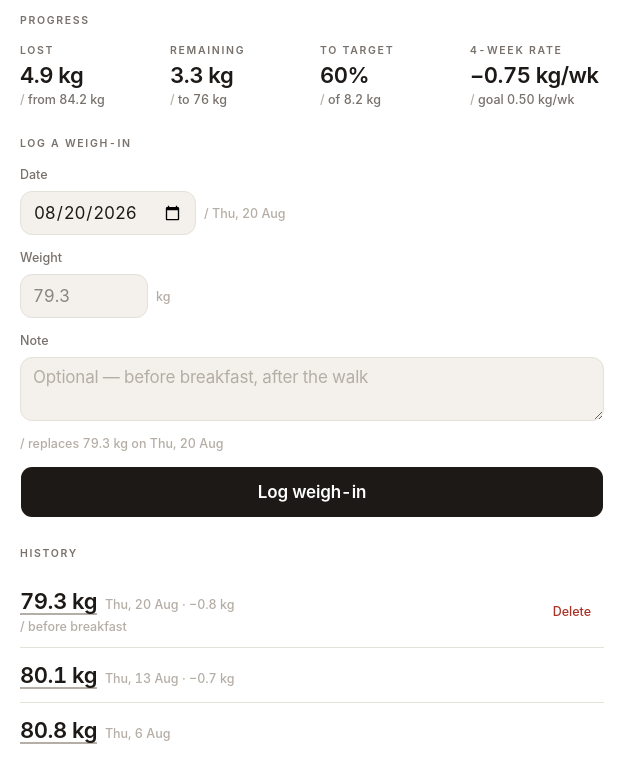
Scenario: editing a past entry › loads a row into the one form, which is addressed by its date
(page scrolled)
Click the button "80.1 kg Thu, 13 Aug · −0.7 kg" at (58, 675), box [20,648,604,702]
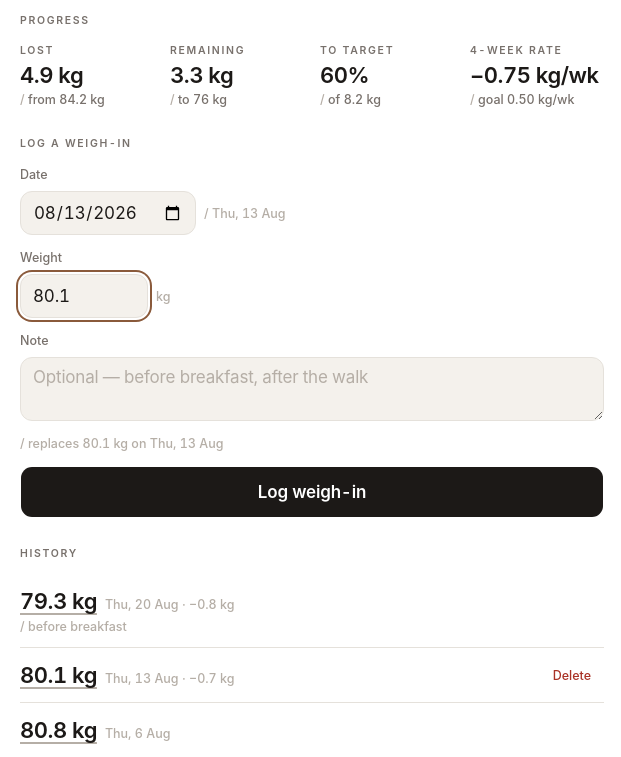
Check: the date field labelled "Date" holds "2026-08-13", box [20,191,196,235]
Check: the field labelled "Weight" holds "80.1", box [20,274,148,318]
